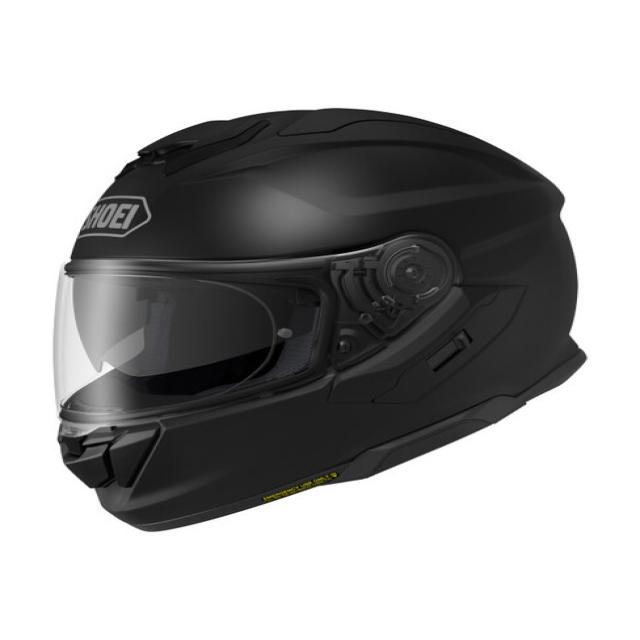Helmet: (48, 105, 589, 532)
